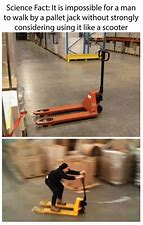Pallet Jack: (32, 47, 110, 126), (31, 168, 88, 218)
